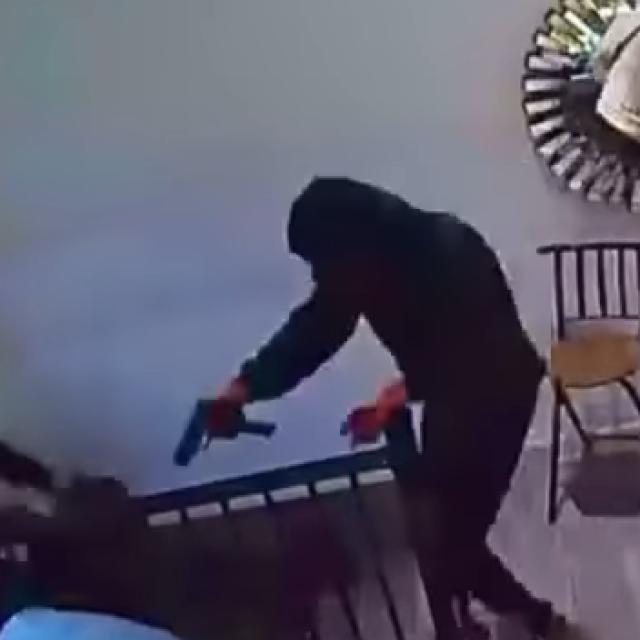FPistol: (168, 394, 236, 476)
